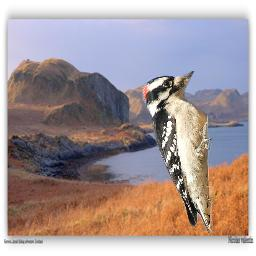Woodpecker: (142, 71, 214, 233)
